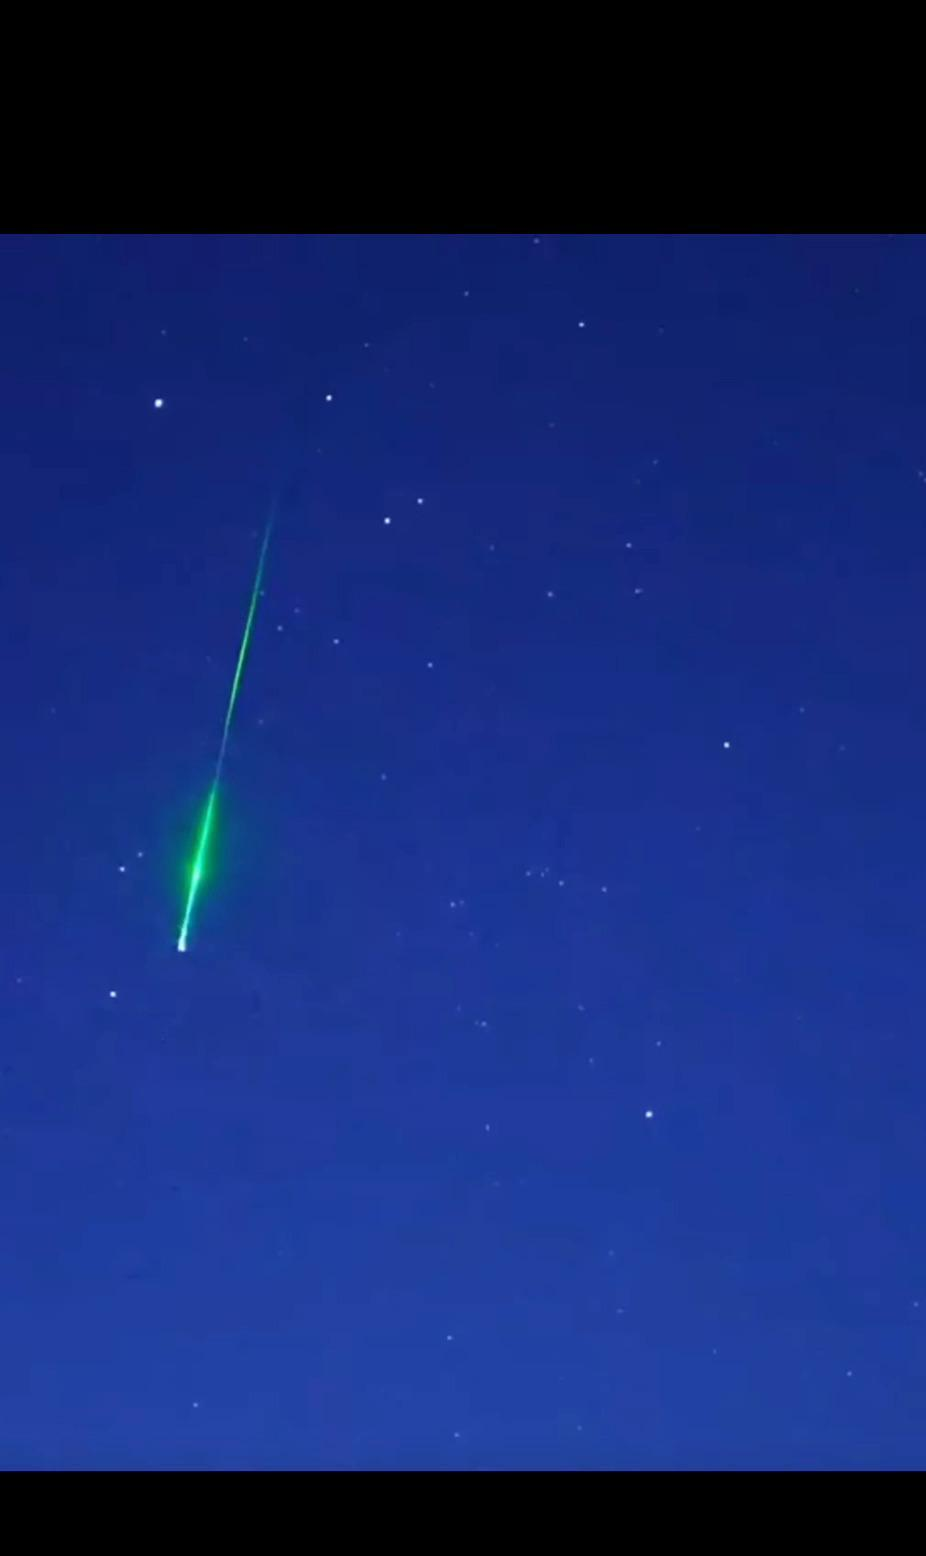meteorite: (151, 476, 299, 976)
